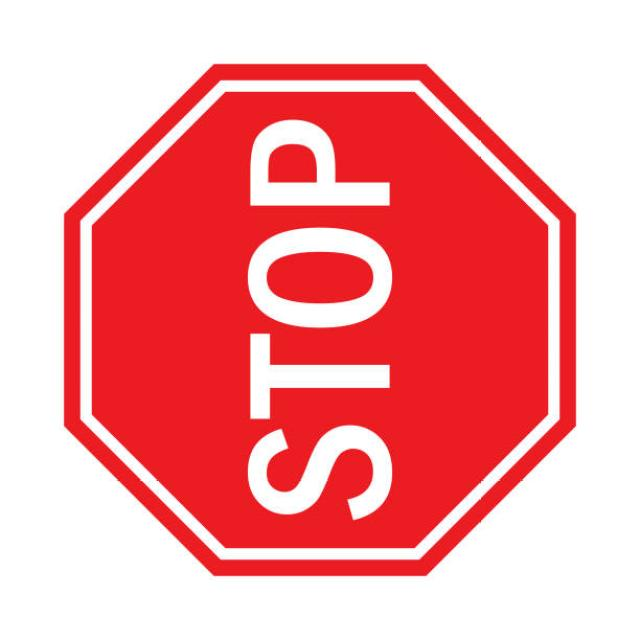Traffic sign: (58, 45, 586, 582)
